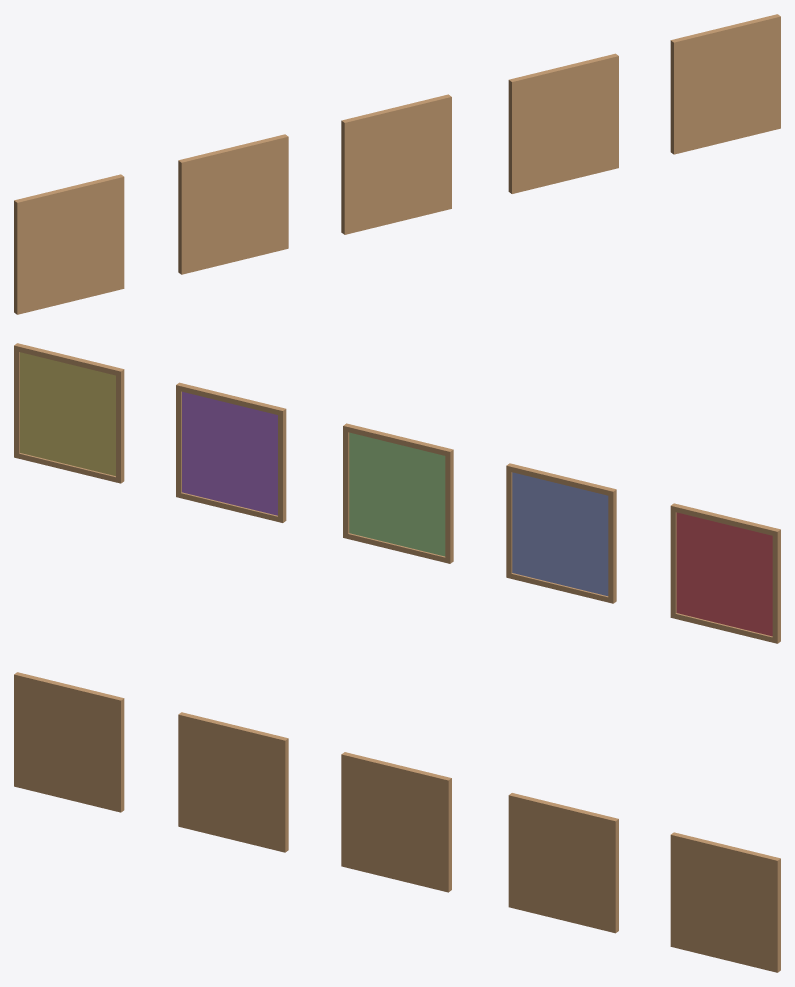
File: TableFrames.fbx
3 renders of one model, top to bottom at view 1: azimuth 30°, elevation 25°; view 2: azimuth 150°, elevation 25°; view 3: azimuth 330°, elevation 25°, orthographic.
Parts seen in each view (by area): view 1: StrawberryFrame; view 2: StrawberryFrame, Pear, Strawberry, Blueberry, Grapes, Banana; view 3: StrawberryFrame.
Boxes of the visible parts, x1,y1,x2,y2 form: StrawberryFrame: (14, 14, 780, 314); StrawberryFrame: (14, 343, 780, 643); Pear: (349, 432, 445, 556); Strawberry: (676, 512, 772, 636); Blueberry: (512, 472, 608, 595); Grapes: (182, 391, 277, 515); Banana: (20, 352, 115, 475); StrawberryFrame: (14, 672, 780, 972).
Bounding box in the file's own units: 1088 × 152 × 8.25.
